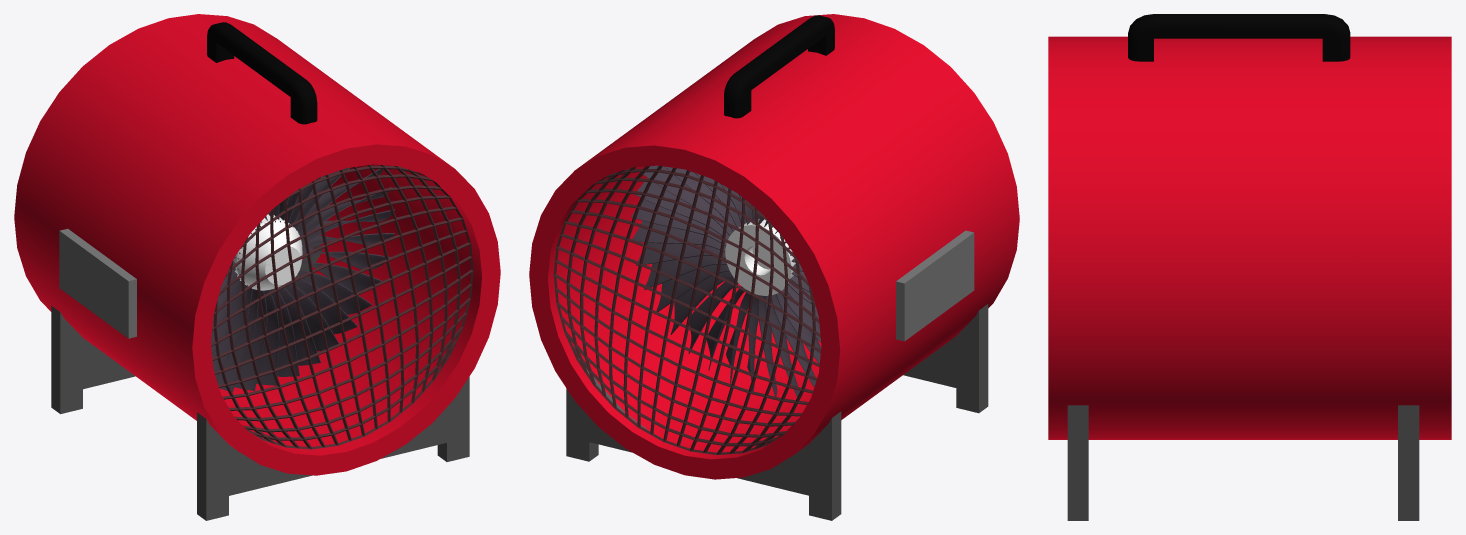
File: Vent.fbx
3 views of the same model, side by side, from view 1: azimuth 30°, elevation 25°; view 2: azimuth 150°, elevation 25°; view 3: azimuth 270°, elevation 25° (orthographic). The views are drawn at different scales.
Visible parts, largest first — view 1: Cylinder, Cylinder.001, Object_4, Cube, Cube.001, Cube.003, Cube.002; view 2: Cylinder, Cylinder.002, Object_4, Cube.003, Cube.001, Cube, Cube.002; view 3: Cylinder, Cube.002, Cube, Cube.003.
Part boxes in pixels (left/top/right/bottom): Cylinder: left=14, top=14, right=500, bottom=475; Cylinder.001: left=211, top=164, right=473, bottom=449; Object_4: left=211, top=167, right=395, bottom=391; Cube: left=197, top=377, right=469, bottom=520; Cube.001: left=59, top=228, right=136, bottom=338; Cube.003: left=51, top=245, right=323, bottom=414; Cube.002: left=207, top=22, right=317, bottom=124; Cylinder: left=529, top=14, right=1019, bottom=479; Cylinder.002: left=553, top=165, right=820, bottom=454; Object_4: left=631, top=165, right=821, bottom=396; Cube.003: left=566, top=347, right=841, bottom=520; Cube.001: left=896, top=230, right=974, bottom=341; Cube: left=821, top=304, right=988, bottom=413; Cube.002: left=724, top=15, right=834, bottom=118; Cylinder: left=1048, top=36, right=1451, bottom=439; Cube.002: left=1128, top=14, right=1350, bottom=61; Cube: left=1067, top=405, right=1088, bottom=520; Cube.003: left=1398, top=405, right=1419, bottom=520.
Bounding box in the file's own units: 206 × 236 × 200.
